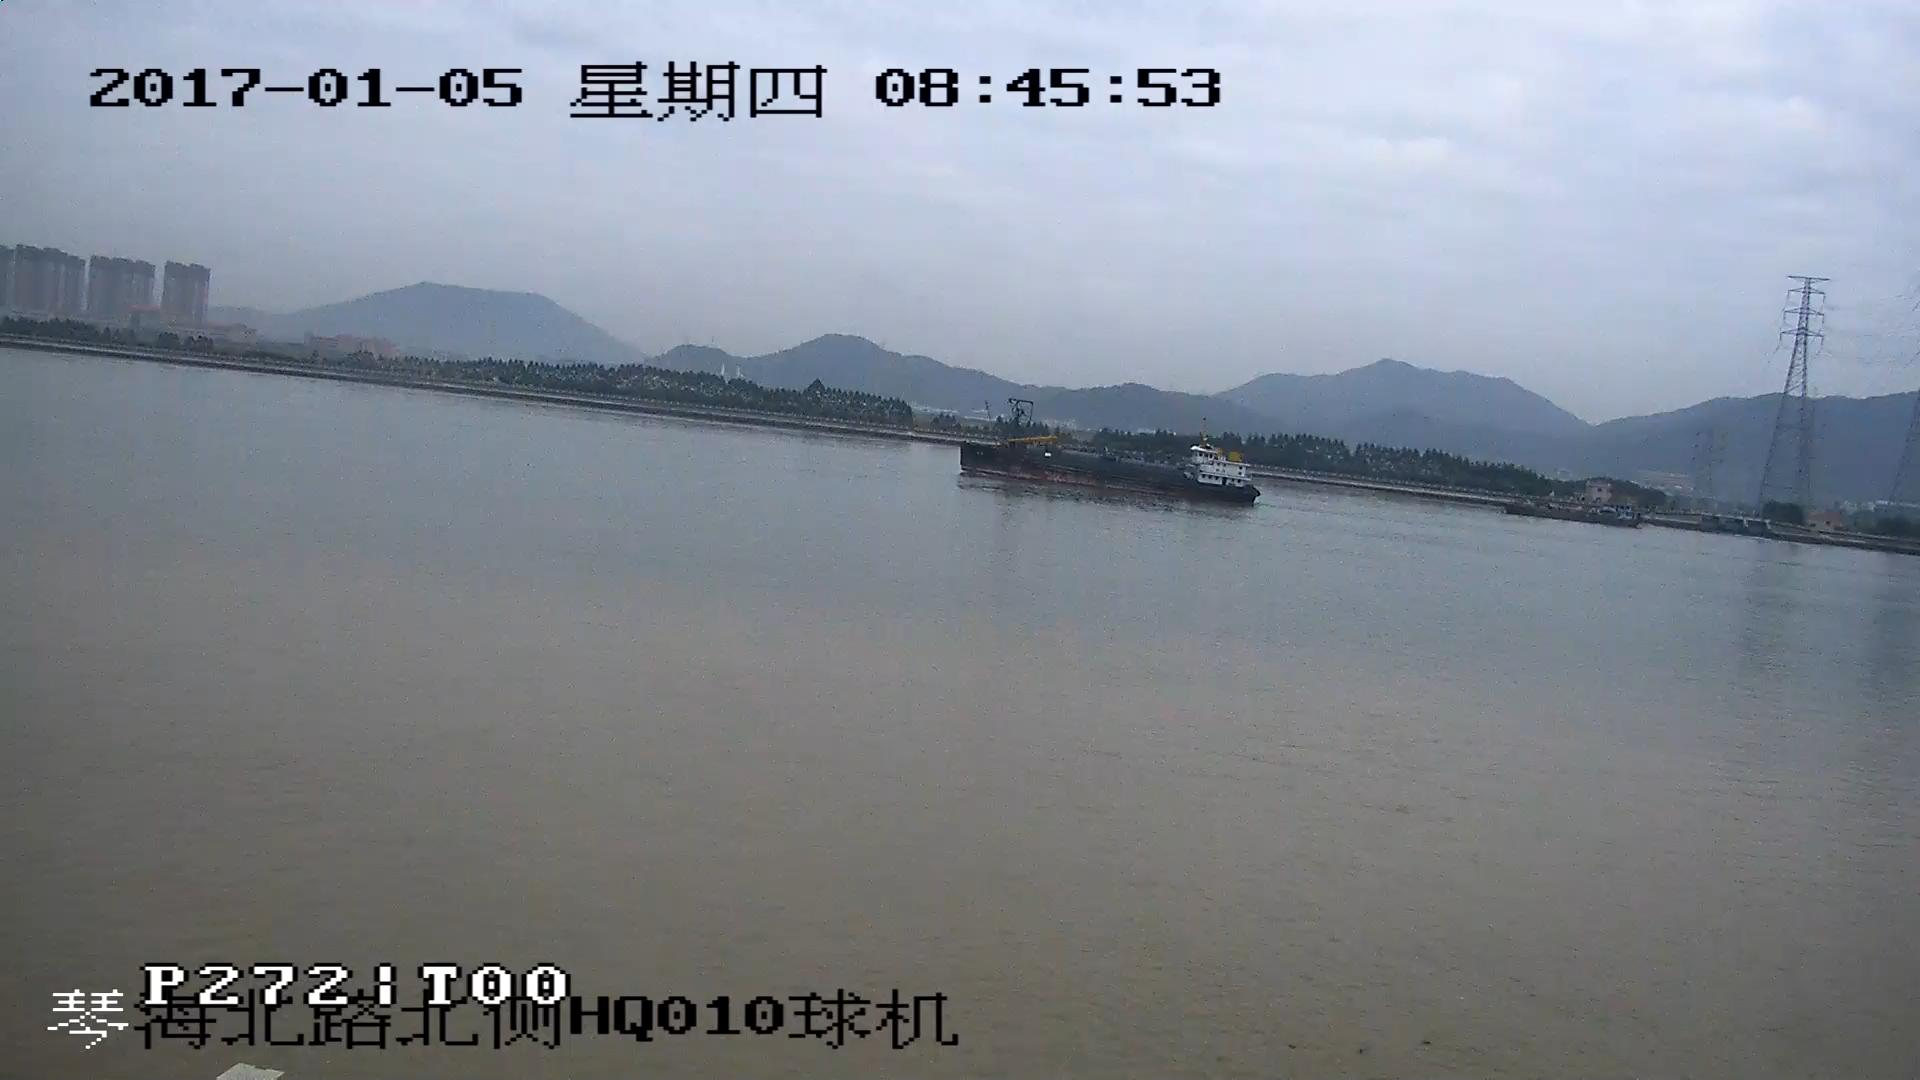bulk cargo carrier: (962, 404, 1250, 509)
